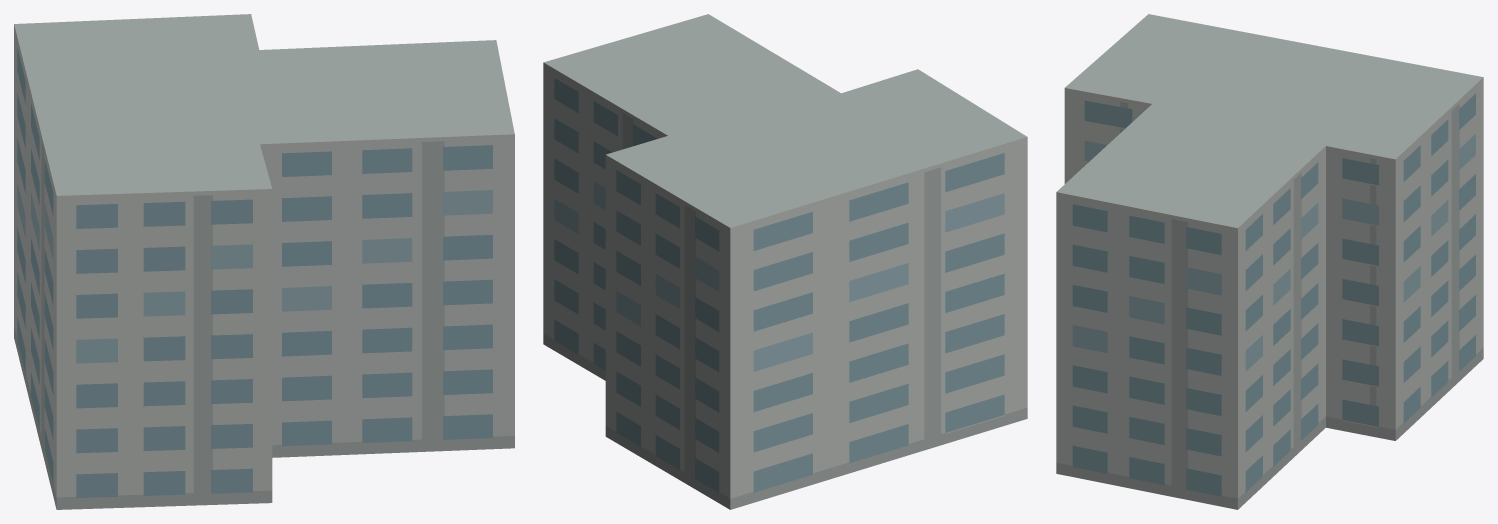
File: survey-upis-32569873.glb
The picture shows the model from 3 angles, left to right: view 1: azimuth 30°, elevation 25°; view 2: azimuth 150°, elevation 25°; view 3: azimuth 270°, elevation 25°; orthographic projection. The views are drawn at different scales.
Parts seen in each view (by area): view 1: survey-upis-32569873.tmp; view 2: survey-upis-32569873.tmp; view 3: survey-upis-32569873.tmp.
Part boxes in pixels (<box>): survey-upis-32569873.tmp: <box>14,14,514,509</box>; survey-upis-32569873.tmp: <box>543,14,1027,509</box>; survey-upis-32569873.tmp: <box>1056,14,1483,509</box>.
Size of the model in its own units: 29.54 by 18.1 by 24.89.
